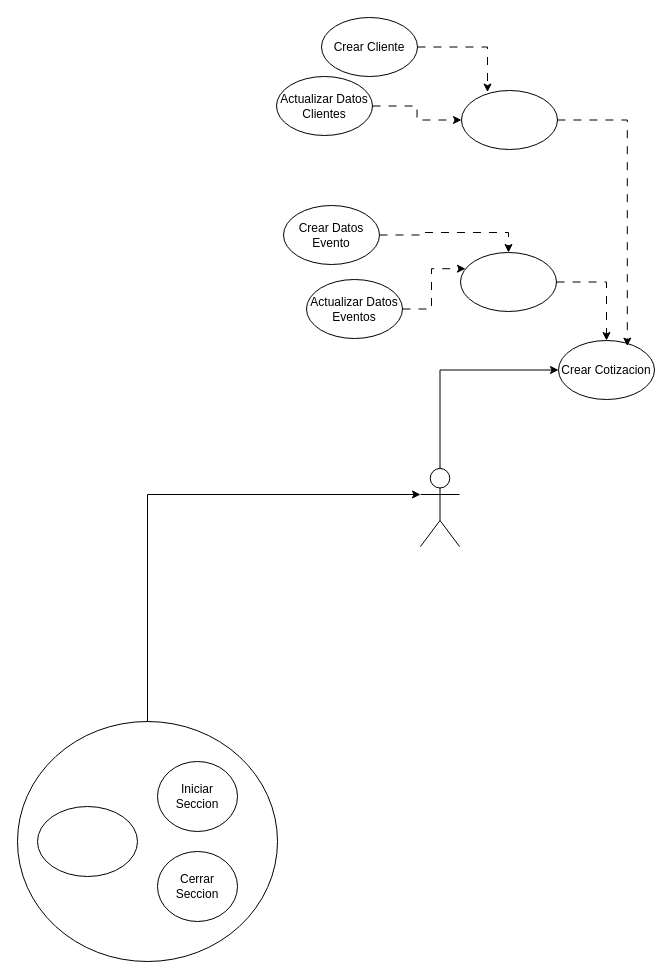
Some shapes in this 672 by 979 pixel diagram are drawn without their labels. The centre of each missing label's shape, as x and y in pixels:
Cambiar Contraseña: the point at 87,841
Comercial: the point at 440,507
Validacion Datos Cliente: the point at 509,120
Validacion Datos del Evento: the point at 508,282
